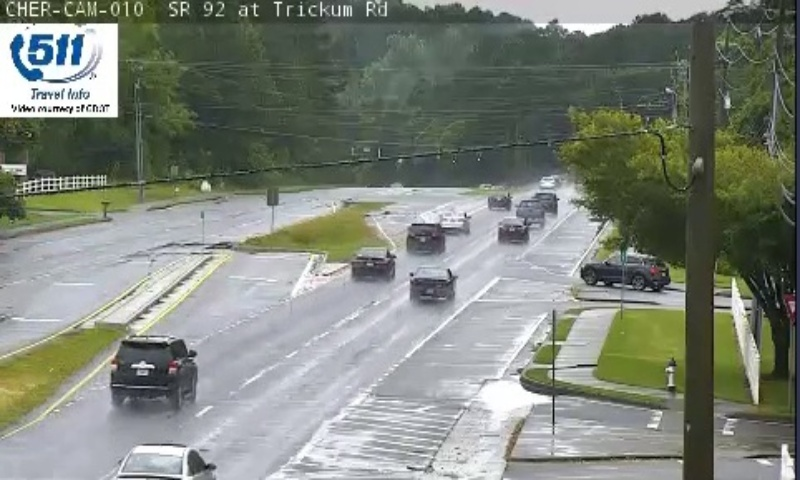car: (109, 335, 197, 396), (409, 267, 454, 297), (353, 245, 393, 276), (406, 223, 444, 252), (517, 198, 546, 225), (497, 216, 528, 241), (438, 209, 469, 232)
